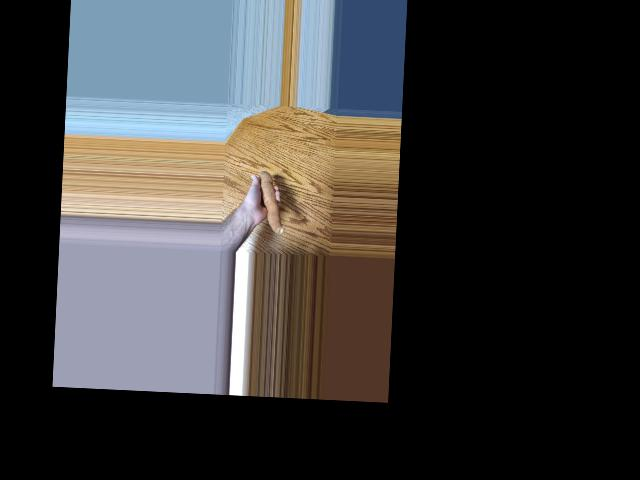sweet_potato: (257, 169, 276, 233)
